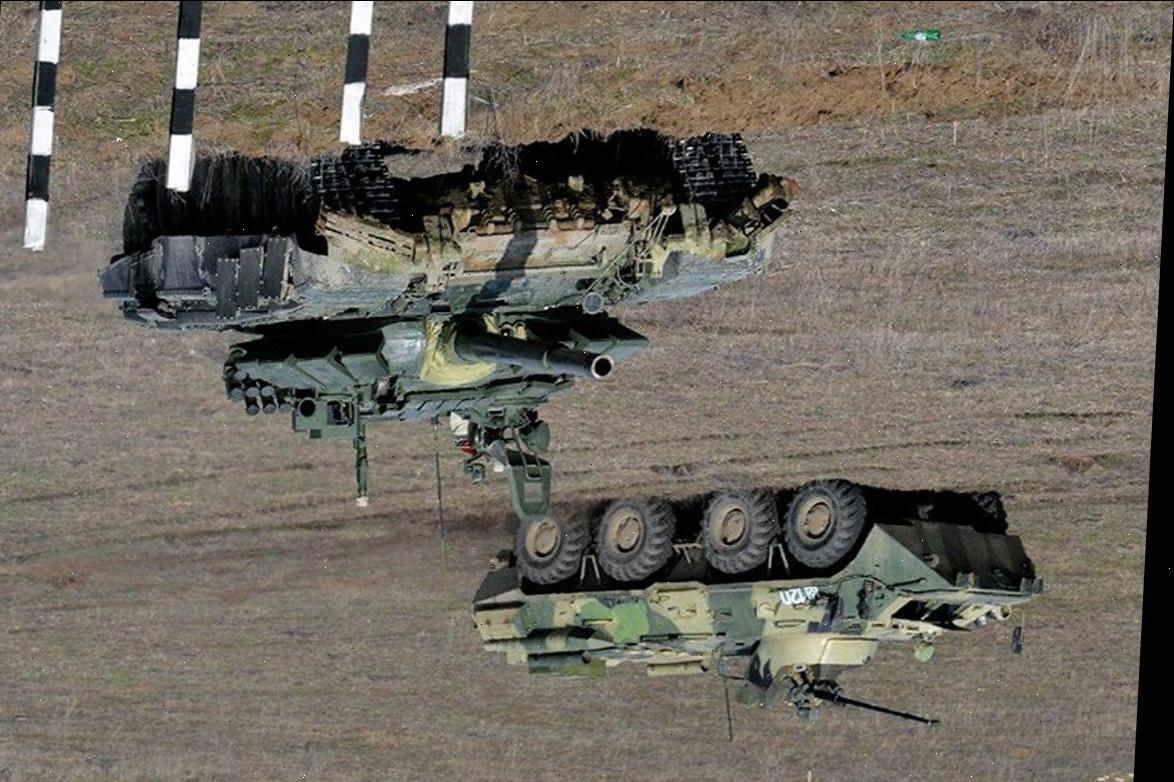tank: (77, 135, 798, 523), (460, 475, 1049, 730)
